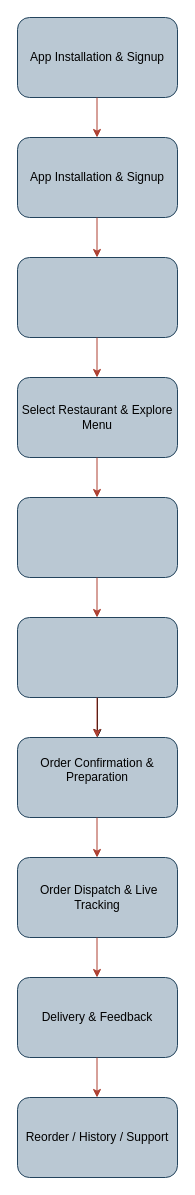
Image size: 195x1195. Some labels were removed from this diagram. Here are the shapes that lost their labels. From the top down, the centre of each, then its label:
the point at 97,297: Browse & Search
the point at 97,537: Add Items to Cart
the point at 97,657: Checkout & Payment
